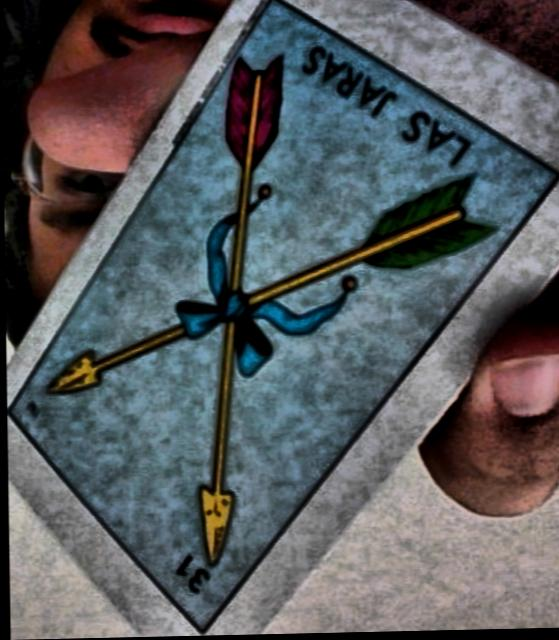Las Jaras: (9, 0, 559, 629)
